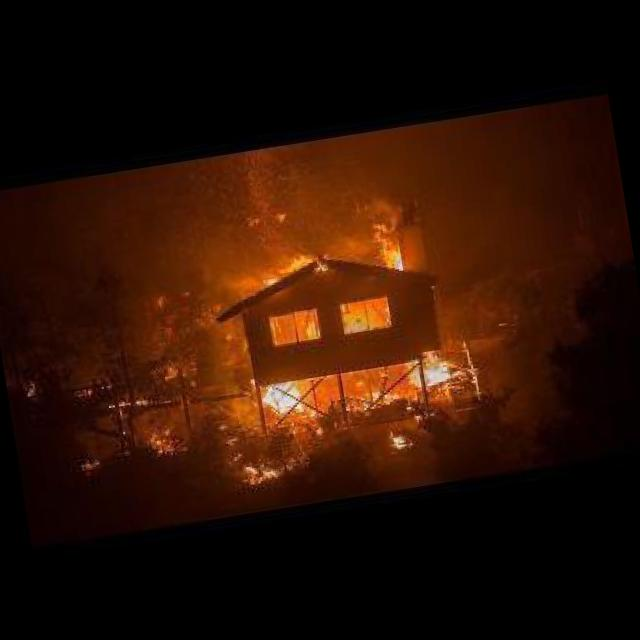Fire: (398, 344, 470, 406), (244, 240, 323, 292), (365, 207, 416, 279), (258, 370, 321, 424)
